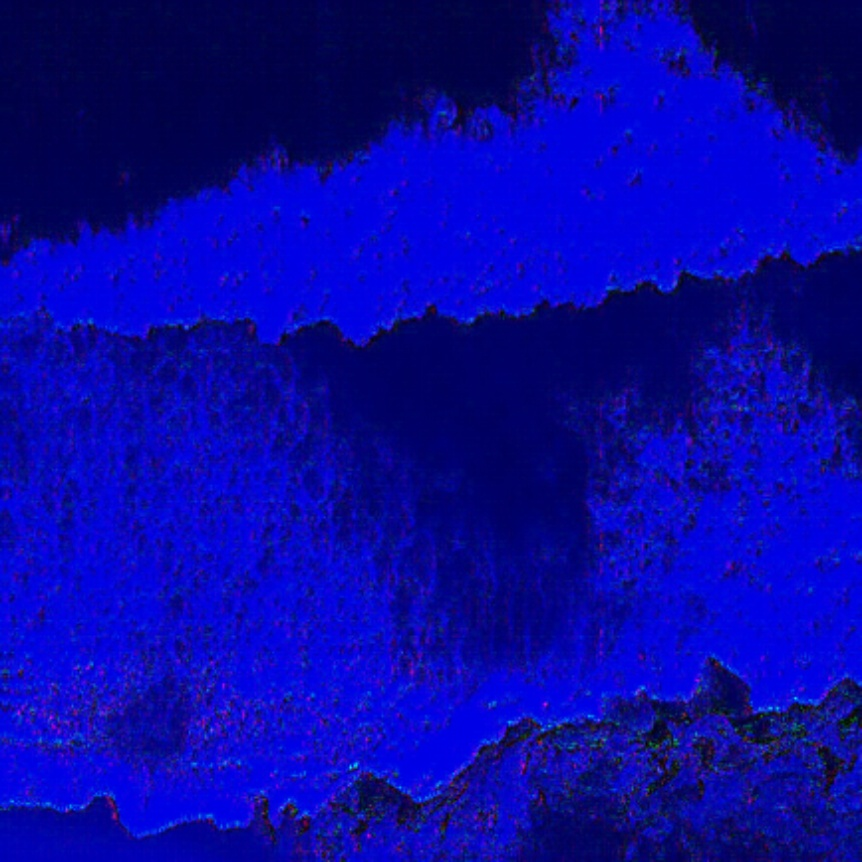rip_current: (227, 258, 682, 668)
